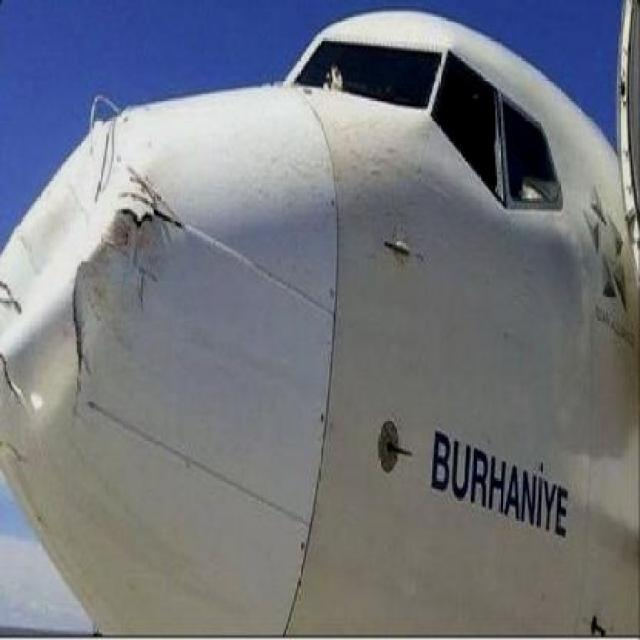dent: (3, 101, 163, 346)
